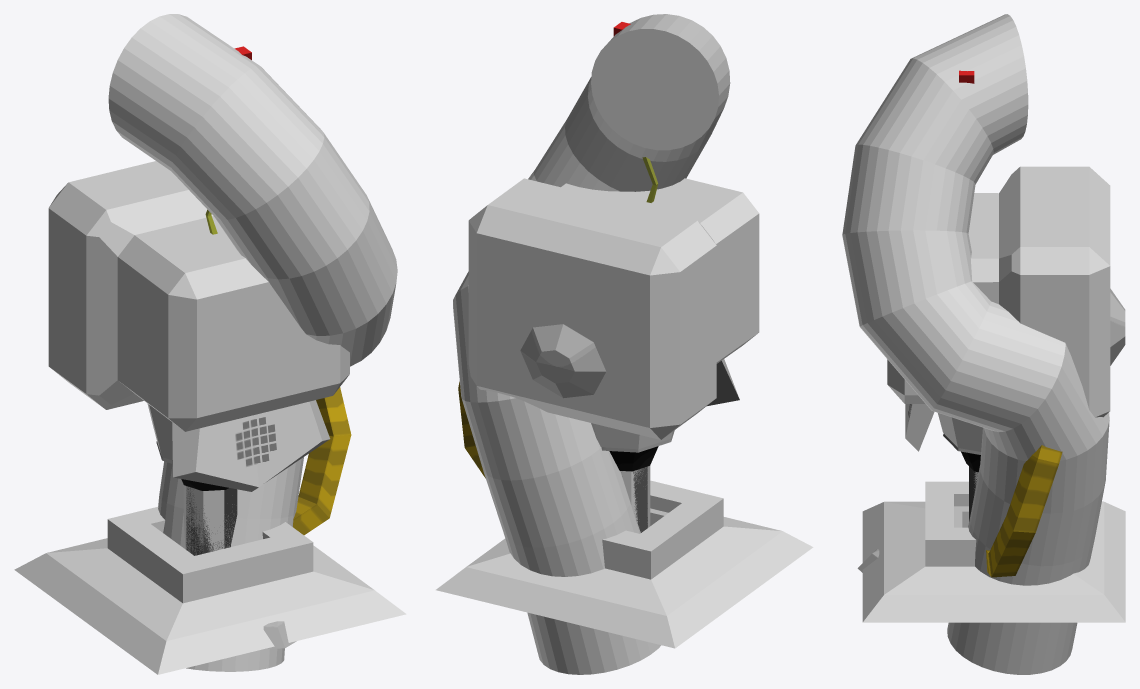
File: TMT2.fbx
The picture shows the model from 3 angles, left to right: view 1: azimuth 30°, elevation 25°; view 2: azimuth 150°, elevation 25°; view 3: azimuth 270°, elevation 25°; orthographic projection. The views are drawn at different scales.
Visible parts, largest first — view 1: Cylinder.001, Sphere.001, Cube, BezierCurve.001, Cylinder, Sphere; view 2: Sphere.001, Cylinder.001, Cube, BezierCurve.001, Sphere, Cylinder; view 3: Cylinder.001, Sphere.001, Cube, BezierCurve.001, Sphere.
Boxes of the visible parts, x1,y1,x2,y2 form: Cylinder.001: (108,14,397,671); Sphere.001: (48,161,349,431); Cube: (14,507,406,674); BezierCurve.001: (156,46,351,648); Cylinder: (183,485,234,555); Sphere: (147,403,172,460); Sphere.001: (468,178,759,439); Cylinder.001: (453,14,730,674); Cube: (436,480,813,648); BezierCurve.001: (458,22,739,532); Sphere: (591,423,673,449); Cylinder: (620,466,650,527); Cylinder.001: (842,14,1109,674); Sphere.001: (887,166,1110,417); Cube: (862,481,1125,622); BezierCurve.001: (857,70,1125,577); Sphere: (938,413,982,451).
Bounding box in the file's own units: 171 × 384 × 163.
1 material, 1 textured.
